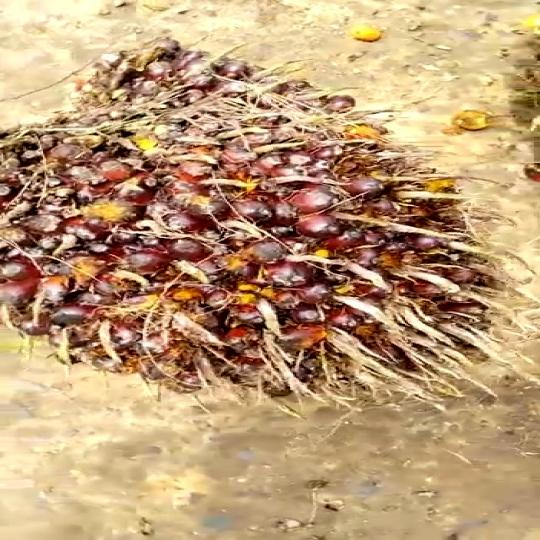masak: (0, 34, 540, 399)
